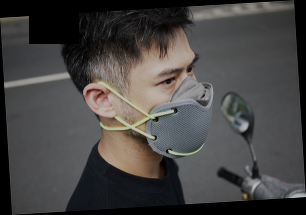with_mask: (117, 55, 216, 161)
